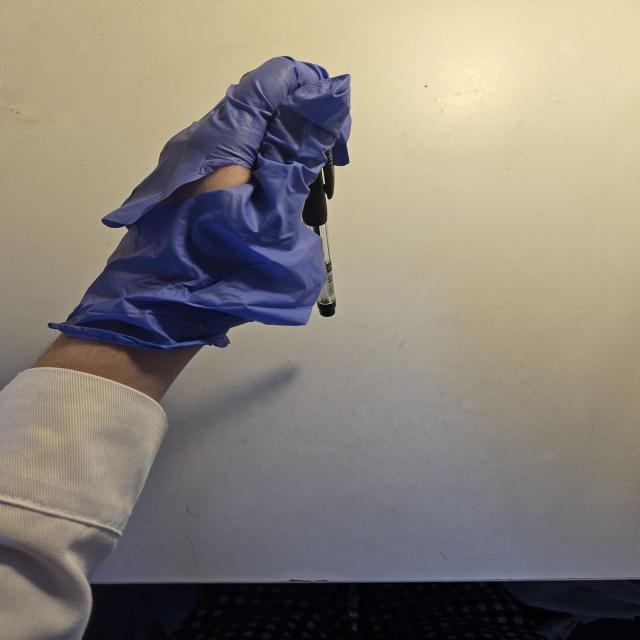gloves_damaged: (46, 51, 352, 355)
